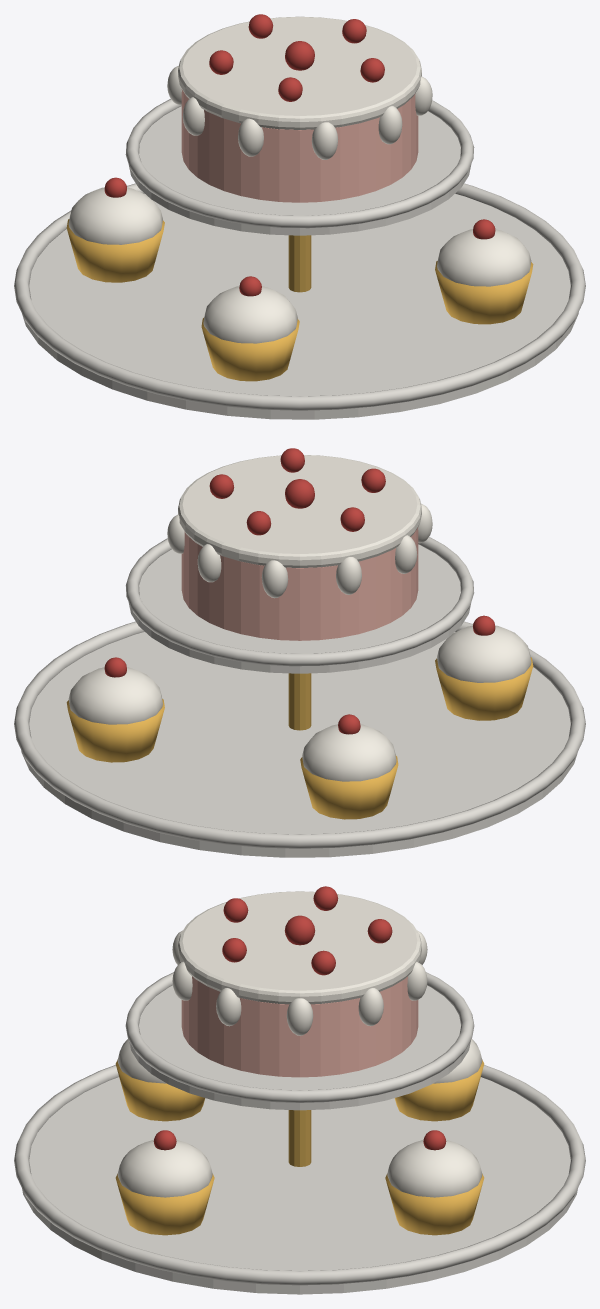
Rendered from hh_cat_cake_stand.glb.
3 views of the same model, one above another, from view 1: azimuth 30°, elevation 25°; view 2: azimuth 150°, elevation 25°; view 3: azimuth 270°, elevation 25° (orthographic).
Visible parts, largest first — view 1: plate, icing.004, cake, plate_rim, plate.001, plate_rim.001, icing.002, icing.003, icing.001, cupcake_case.001, cupcake_case.002, cupcake_case.003 (+7 smaller); view 2: plate, icing.004, cake, plate_rim, plate.001, plate_rim.001, icing, icing.001, icing.002, cupcake_case, cupcake_case.001, cupcake_case.002 (+7 smaller); view 3: plate, icing.004, cake, plate_rim, plate.001, plate_rim.001, icing, icing.003, cupcake_case, cupcake_case.003, cupcake_case.001, cupcake_case.002 (+9 smaller).
Boxes of the visible parts, x1,y1,x2,y2 form: plate: (22,193,578,419); icing.004: (178,16,421,129); cake: (181,89,418,202); plate_rim: (14,183,585,410); plate.001: (129,106,471,235); plate_rim.001: (125,98,474,228); icing.002: (203,286,297,343); icing.003: (437,229,531,286); icing.001: (68,187,162,244); cupcake_case.001: (66,219,164,282); cupcake_case.002: (201,317,299,381); cupcake_case.003: (435,261,533,324); plate: (21,632,577,857); icing.004: (178,455,421,567); cake: (181,527,418,640); plate_rim: (14,621,585,848); plate.001: (128,544,470,673); plate_rim.001: (125,537,474,666); icing: (68,667,162,724); icing.001: (302,724,396,781); icing.002: (437,625,531,682); cupcake_case: (66,699,164,762); cupcake_case.001: (300,755,398,819); cupcake_case.002: (435,657,533,720); plate: (22,1077,577,1294); icing.004: (178,891,421,1004); cake: (181,976,418,1077); plate_rim: (14,1065,585,1285); plate.001: (129,985,470,1110); plate_rim.001: (125,972,474,1102); icing: (387,1140,482,1197); icing.003: (117,1140,212,1197); cupcake_case: (385,1174,484,1235); cupcake_case.003: (115,1174,214,1235); cupcake_case.001: (394,1060,484,1121); cupcake_case.002: (115,1060,205,1121).
Bounding box in the file's own units: 0.3 × 0.18 × 0.3.
